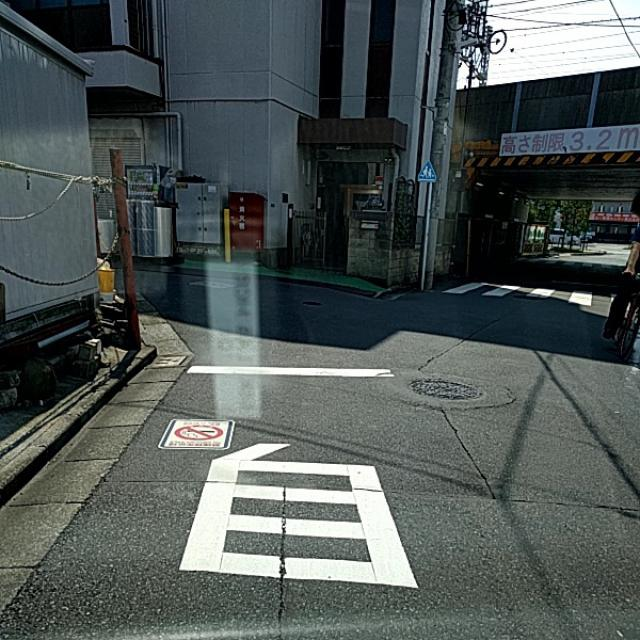pothole: (274, 493, 308, 572)
